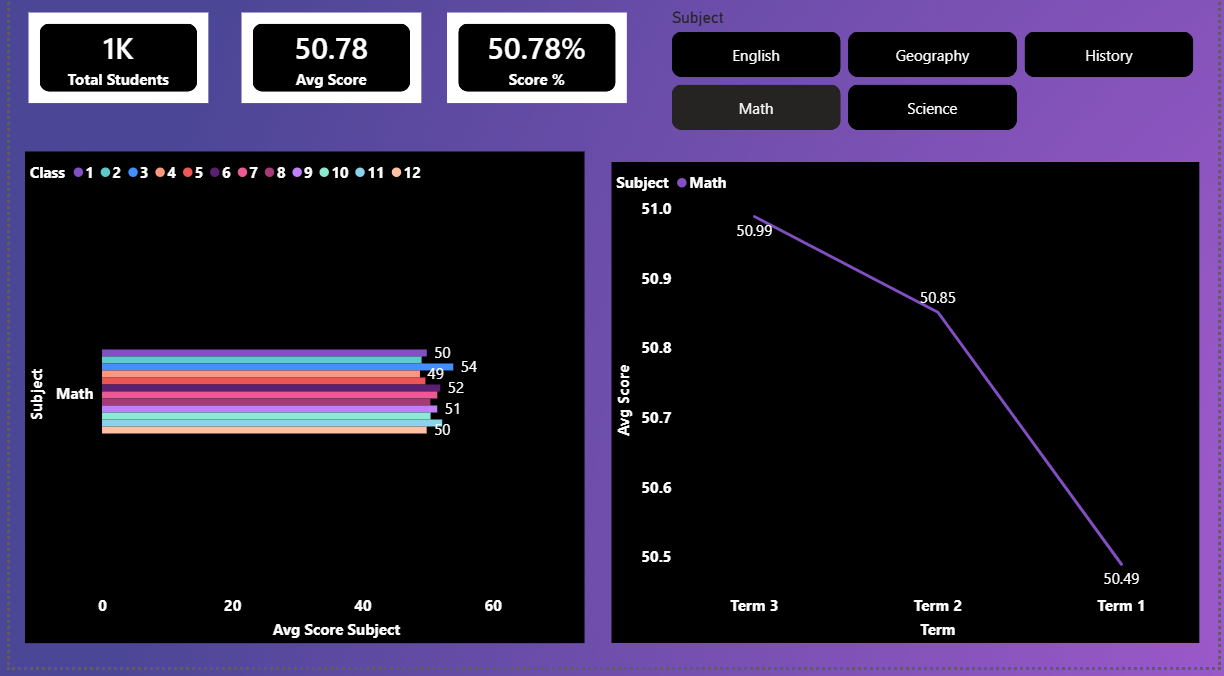

Layout of this report page (visuals, bound fields, positions):
{"tool":"powerbi","page":{"name":"Page 1","canvas":[1280,720],"ordinal":0},"visuals":[{"type":"cardVisual","fields":{"Data":["Students.Total Students"]},"box":[15,20,201.7,106.7],"z":0},{"type":"cardVisual","fields":{"Data":["Scores.Avg Score Subject"]},"box":[240,20,201.7,106.7],"z":1},{"type":"cardVisual","fields":{"Data":["Scores.Score %"]},"box":[458.3,20,201.7,106.7],"z":2},{"type":"clusteredBarChart","fields":{"Category":["Scores.Subject"],"Y":["Scores.Avg Score Subject"],"Series":["Students.Class"]},"box":[15.1,173.9,593.4,521.6],"z":3},{"type":"lineChart","fields":{"Category":["Scores.Term"],"Y":["Scores.Avg Score Subject"],"Series":["Scores.Subject"]},"box":[638.3,185,623.3,510],"z":4},{"type":"advancedSlicerVisual","fields":{"Values":["Scores.Subject"]},"box":[696.7,20,565,135],"z":5}]}

Visuals, with their boxes in screenshot pixels (x1, y1, x2, y2), scaled from the page's 1280x720 canvas onto the 1224x676 screenshot:
cardVisual - Students.Total Students: {"x1": 14, "y1": 19, "x2": 207, "y2": 119}
cardVisual - Scores.Avg Score Subject: {"x1": 230, "y1": 19, "x2": 422, "y2": 119}
cardVisual - Scores.Score %: {"x1": 438, "y1": 19, "x2": 631, "y2": 119}
clusteredBarChart - Scores.Subject x Scores.Avg Score Subject: {"x1": 14, "y1": 163, "x2": 582, "y2": 653}
lineChart - Scores.Term x Scores.Avg Score Subject: {"x1": 610, "y1": 174, "x2": 1206, "y2": 653}
advancedSlicerVisual - Scores.Subject: {"x1": 666, "y1": 19, "x2": 1207, "y2": 146}
